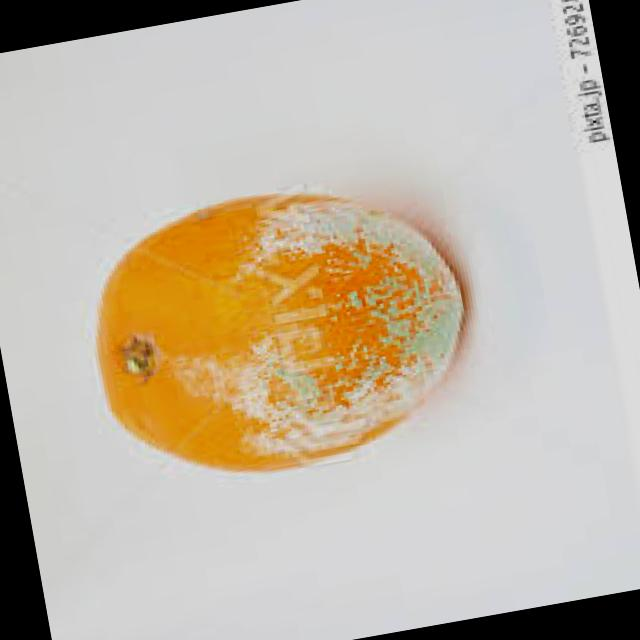organic: (83, 165, 480, 496)
